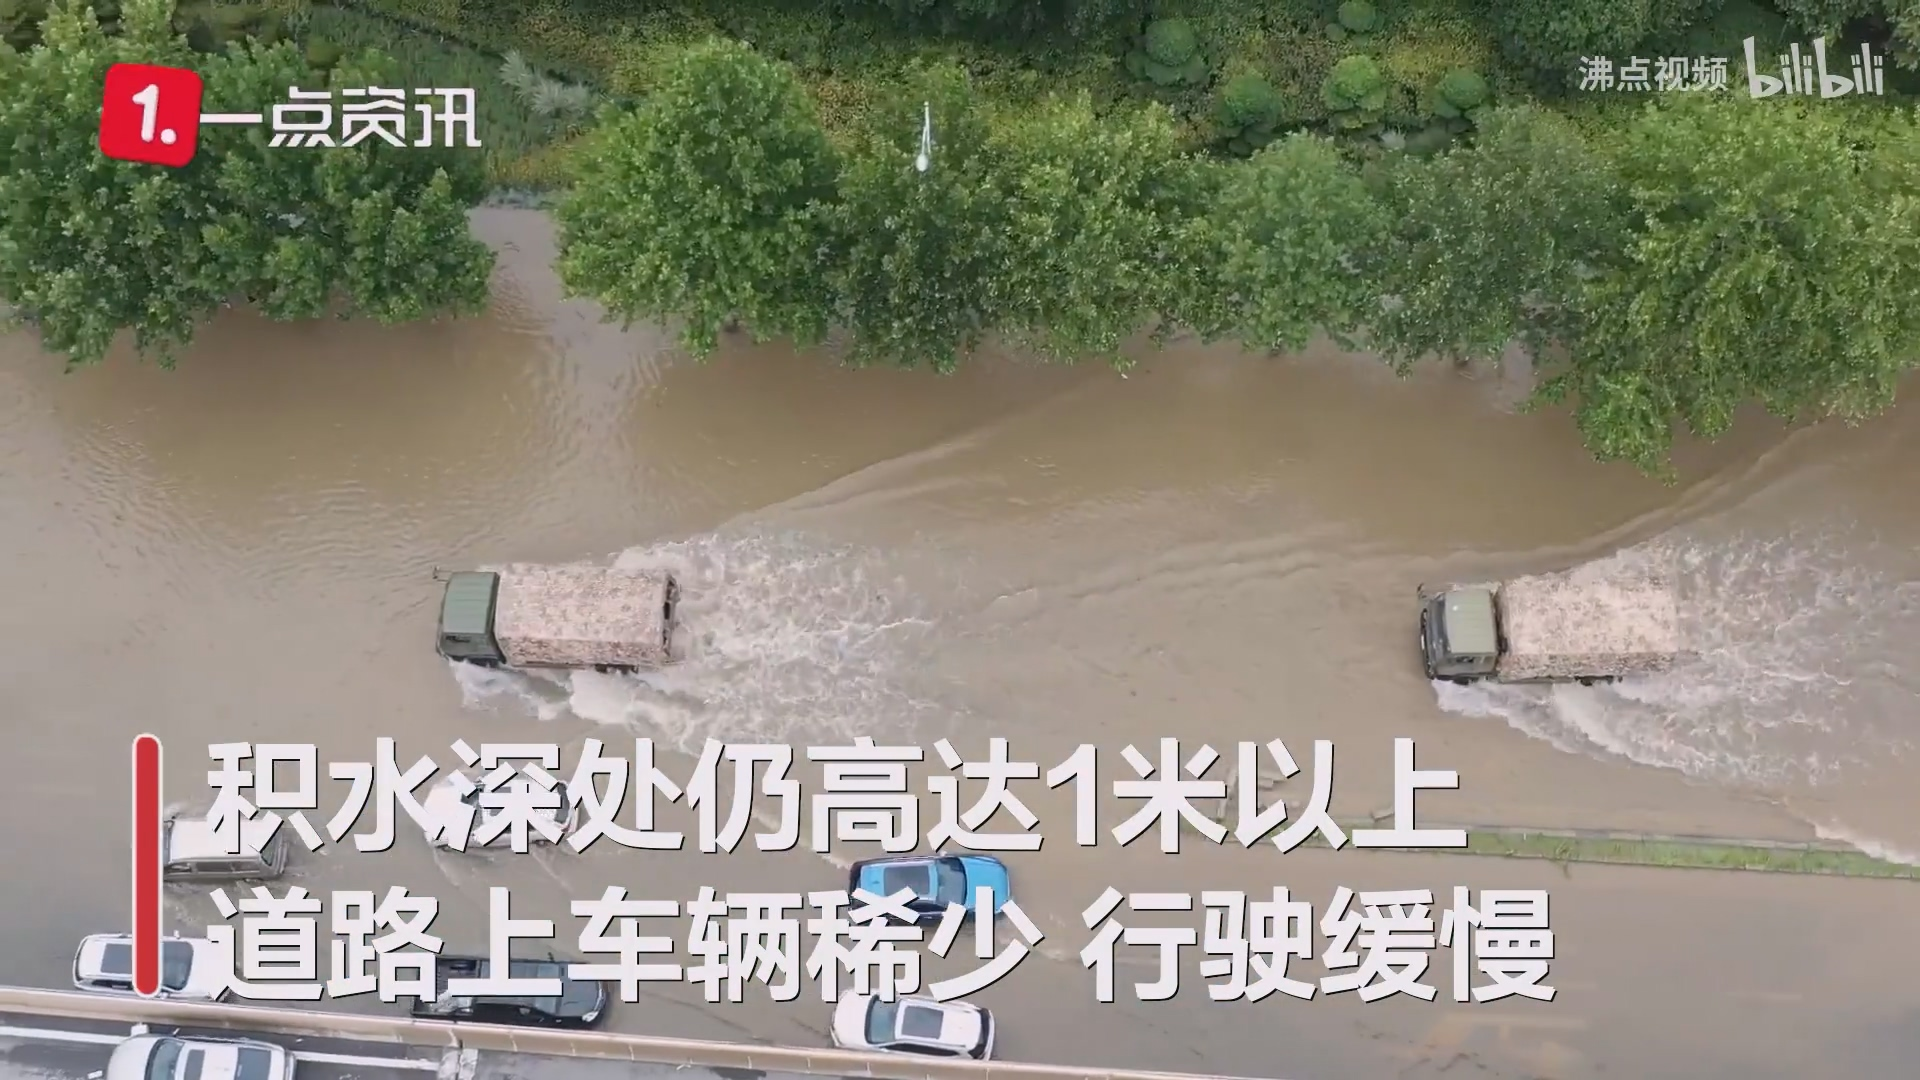puddle: (30, 287, 1920, 735)
